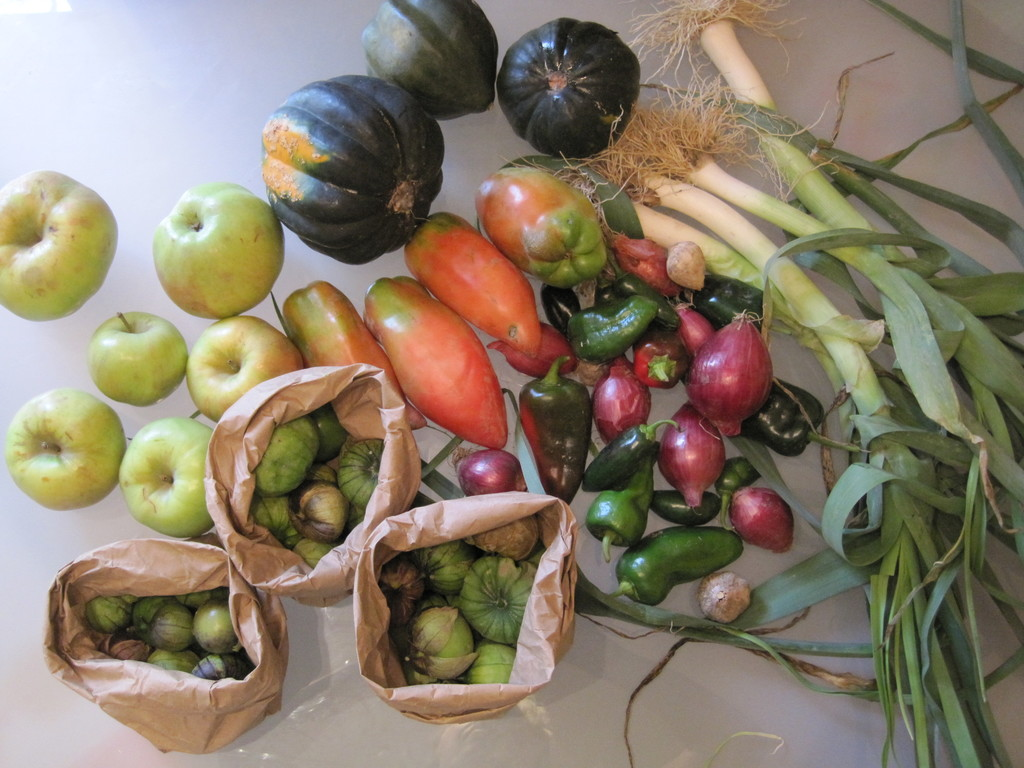Apple: (139, 184, 279, 323), (0, 166, 119, 321), (4, 383, 122, 510), (183, 314, 304, 421), (119, 417, 214, 535), (85, 307, 188, 407)
